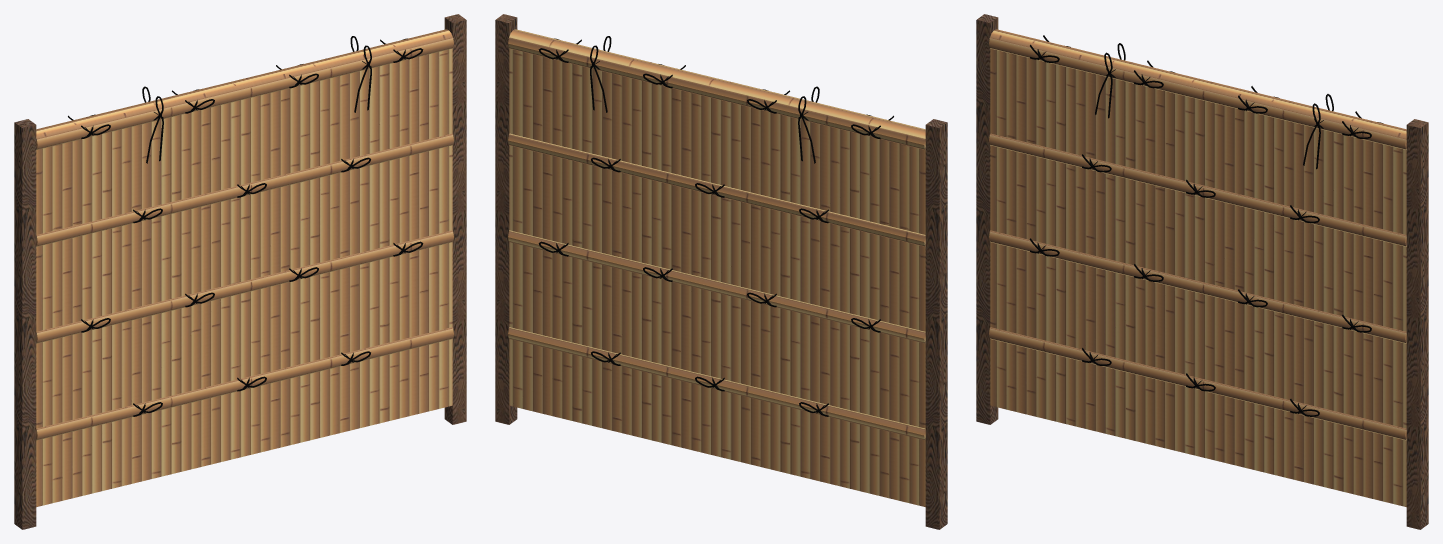
Rendered from 1920-1500_ever1_kenninji-sarashitake.fbx.
The picture shows the model from 3 angles, left to right: view 1: azimuth 30°, elevation 25°; view 2: azimuth 150°, elevation 25°; view 3: azimuth 330°, elevation 25°; orthographic projection.
Parts seen in each view (by area): view 1: 1920-1500_ever1sarashidake; view 2: 1920-1500_ever1sarashidake; view 3: 1920-1500_ever1sarashidake.
Part boxes in pixels (<box>): 1920-1500_ever1sarashidake: <box>14,14,466,529</box>; 1920-1500_ever1sarashidake: <box>495,14,947,529</box>; 1920-1500_ever1sarashidake: <box>976,14,1428,529</box>.
Size of the model in its own units: 192 by 167 by 10.3.
Materials: 5 (4 with a texture image).
